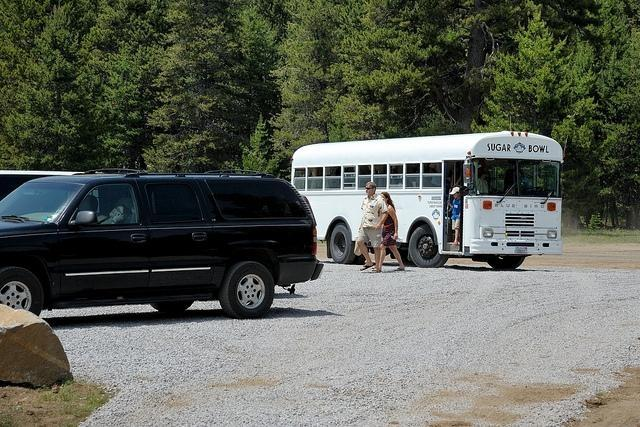bus: (291, 132, 565, 268)
truck: (0, 168, 328, 319)
